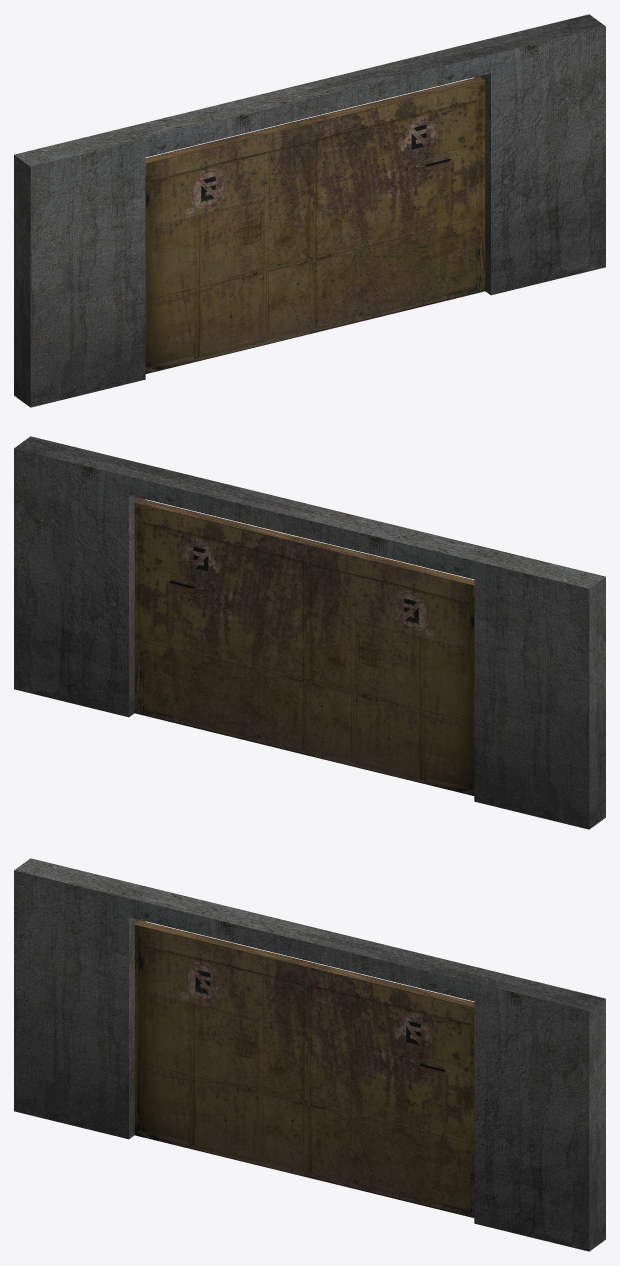
The model's file is metal_gate.obj.
The picture shows the model from 3 angles, top to bottom: view 1: azimuth 30°, elevation 25°; view 2: azimuth 150°, elevation 25°; view 3: azimuth 330°, elevation 25°; orthographic projection.
Parts seen in each view (by area): view 1: polySurface2; view 2: polySurface2; view 3: polySurface2.
Part boxes in pixels (x1=…): polySurface2: x1=14, y1=14, x2=605, y2=407; polySurface2: x1=14, y1=436, x2=605, y2=829; polySurface2: x1=14, y1=858, x2=605, y2=1251.
Size of the model in its own units: 20 by 8 by 1.
